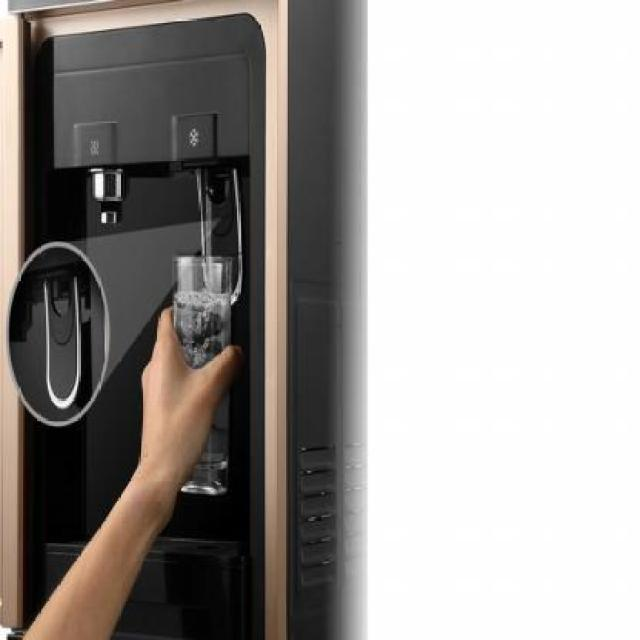cooler: (8, 0, 370, 640)
